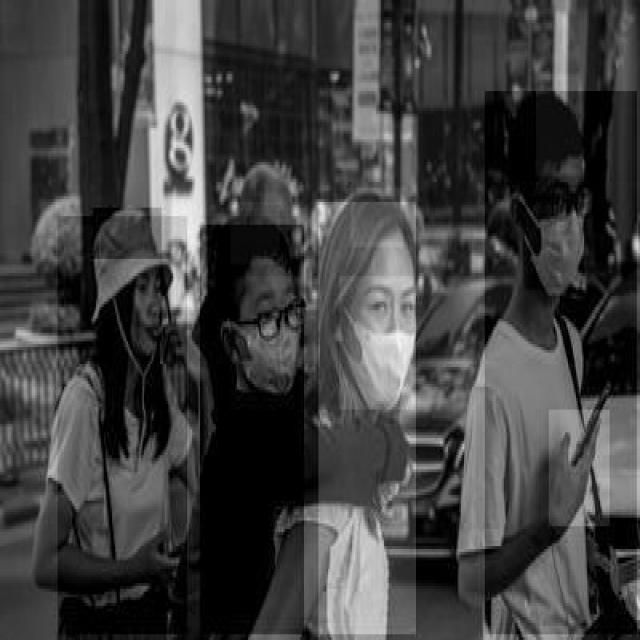face_mask: (340, 276, 414, 410), (233, 276, 300, 392), (523, 173, 586, 293)
face_nomask: (130, 268, 162, 356)
glasses: (257, 293, 308, 341), (548, 178, 593, 223)
hand_noglove: (549, 410, 611, 529)
head_nohelmet: (506, 74, 585, 176), (222, 218, 302, 283), (337, 188, 415, 250), (93, 208, 163, 262)
person: (485, 91, 638, 637), (58, 216, 188, 637), (200, 225, 306, 637), (318, 202, 418, 637)
